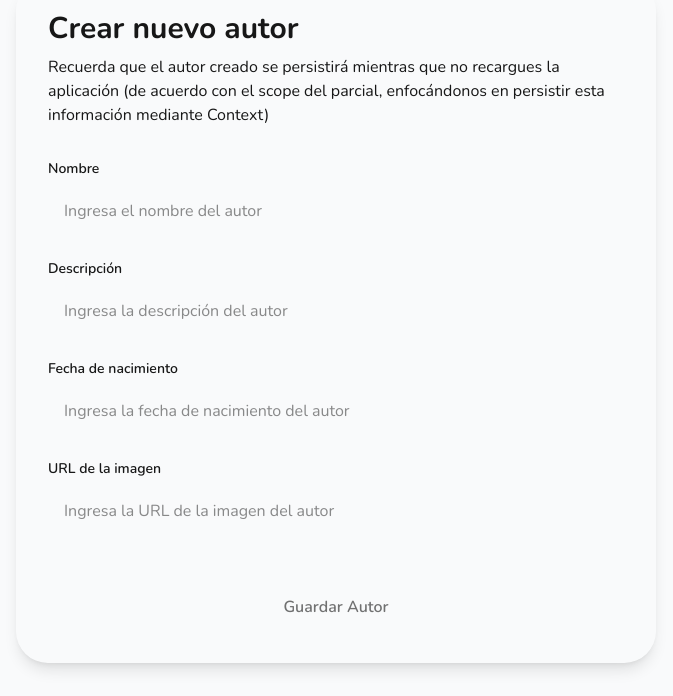
Test: Interacción en /crear › muestra errores al enviar formulario vacío
This screenshot has width=673, height=696.
(page scrolled)
Click the button "Guardar Autor": (336, 607) [48,583,624,631]
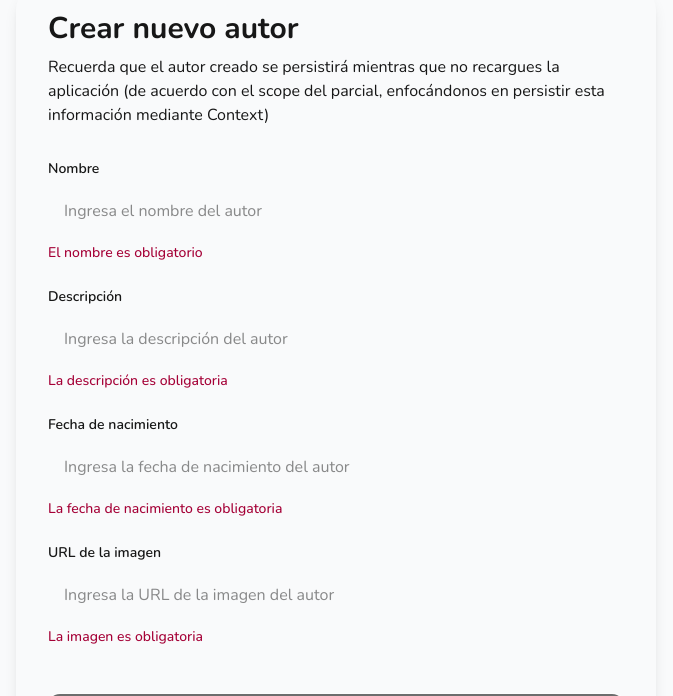
Check: the text "El nombre es obligatorio" is shown, box [48,243,203,262]
Check: the text "La descripción es obligatoria" is shown, box [48,371,228,390]
Check: the text "La fecha de nacimiento es obligatoria" is shown, box [48,499,282,518]
